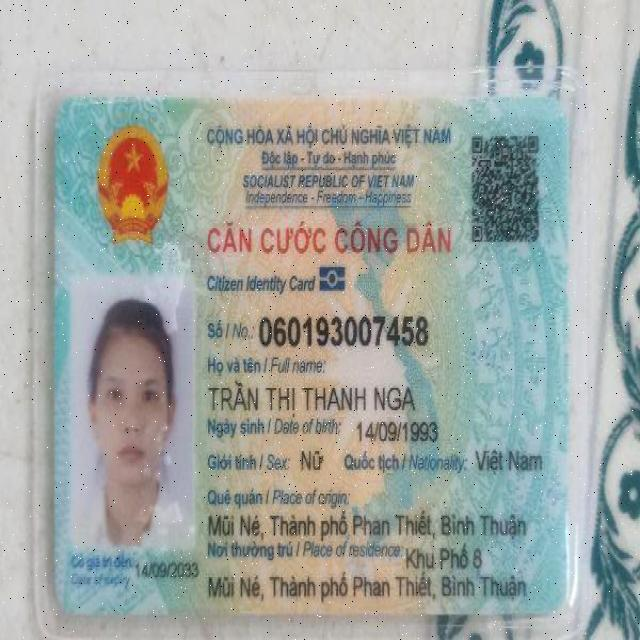current_place: (205, 568, 527, 605), (402, 542, 490, 574)
dob: (356, 416, 444, 447)
expire_date: (133, 558, 203, 582)
gender: (292, 444, 325, 477)
id: (253, 313, 431, 352)
name: (206, 380, 426, 415)
nationality: (468, 441, 548, 480)
origin_place: (206, 506, 527, 543)
